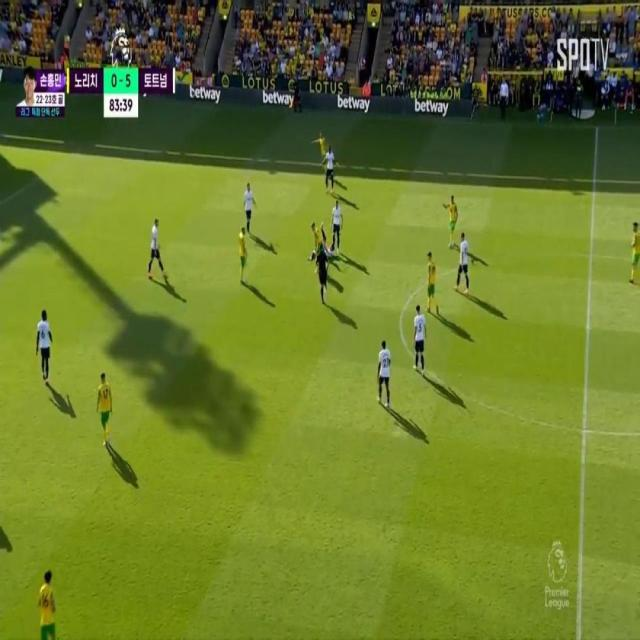player: (31, 304, 57, 384), (39, 566, 59, 640), (627, 213, 640, 307), (376, 339, 391, 407), (148, 219, 165, 278), (412, 306, 425, 370), (99, 370, 111, 437), (457, 232, 470, 287), (237, 224, 248, 285), (425, 251, 437, 305), (332, 198, 344, 248), (447, 192, 459, 240), (323, 152, 339, 187), (241, 178, 253, 224), (308, 219, 329, 245), (314, 131, 330, 154)
referee: (315, 242, 330, 291)
